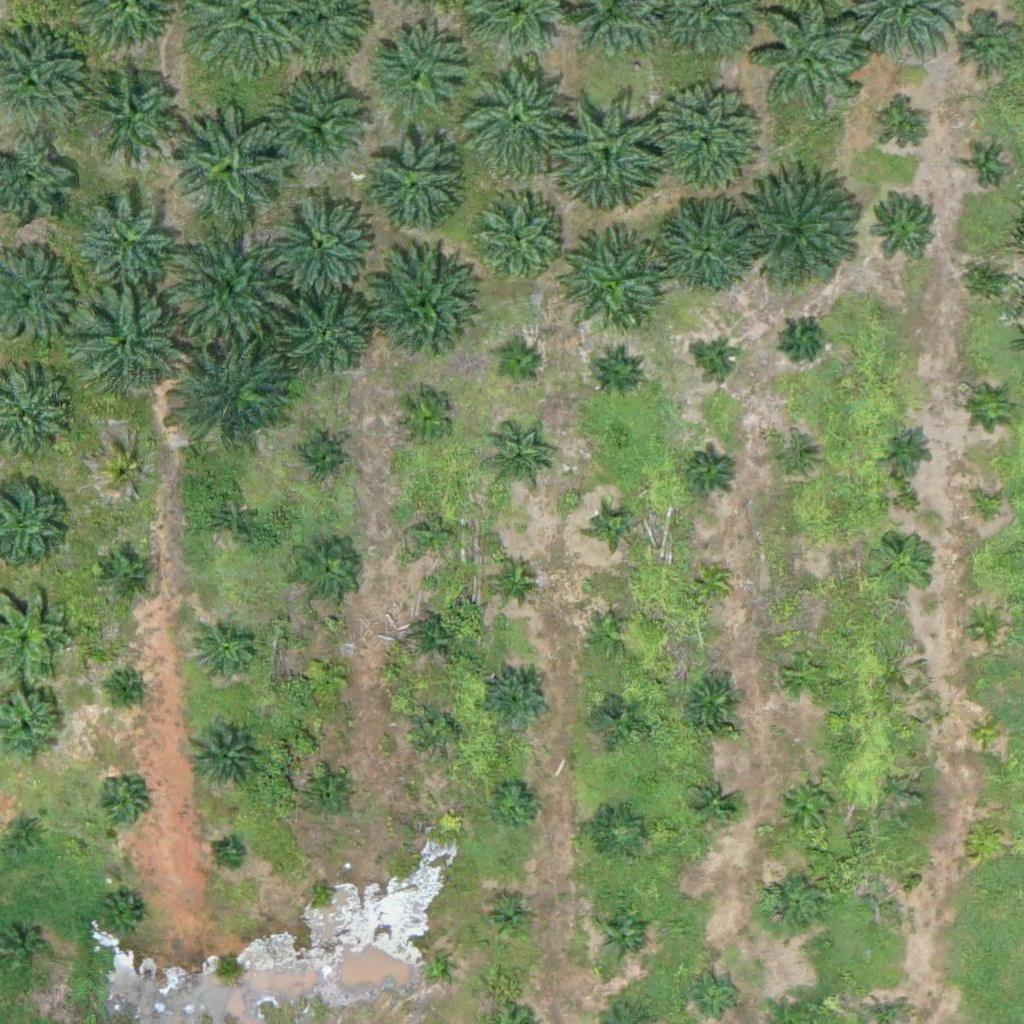Kelapa_Sawit: (547, 90, 672, 216), (455, 56, 580, 182), (165, 221, 290, 347), (173, 332, 298, 458), (743, 171, 868, 296), (364, 252, 477, 366), (644, 84, 757, 197), (73, 290, 186, 403), (265, 182, 377, 296), (175, 102, 287, 216), (553, 234, 665, 347), (654, 195, 754, 296), (468, 189, 568, 290), (369, 25, 469, 126), (77, 191, 177, 292), (361, 134, 461, 234), (274, 73, 374, 173), (83, 61, 183, 161), (283, 293, 371, 381), (187, 718, 262, 794), (867, 187, 942, 262), (485, 432, 548, 495), (391, 386, 454, 449), (758, 870, 821, 933), (487, 668, 550, 731), (954, 14, 1017, 77), (402, 503, 465, 566), (295, 541, 357, 604), (195, 620, 257, 683), (682, 672, 744, 735), (776, 773, 838, 836), (872, 533, 934, 596), (199, 490, 261, 553), (594, 807, 644, 858), (592, 689, 642, 740), (412, 611, 462, 662), (881, 104, 931, 155), (488, 554, 538, 605), (413, 705, 463, 756), (292, 432, 342, 483), (301, 651, 351, 702), (489, 778, 539, 829), (687, 778, 737, 829), (691, 968, 741, 1019), (599, 910, 649, 961), (102, 549, 152, 599), (592, 347, 642, 397), (686, 445, 736, 495), (882, 424, 932, 474), (782, 649, 832, 699), (585, 609, 635, 659), (493, 342, 543, 392), (307, 772, 357, 822), (484, 895, 534, 945), (96, 778, 146, 828), (99, 892, 149, 942), (3, 810, 53, 860), (103, 449, 153, 499), (976, 389, 1014, 427), (783, 317, 821, 355), (969, 490, 1007, 528), (967, 609, 1005, 647), (969, 716, 1007, 754), (965, 816, 1003, 854), (691, 563, 729, 601), (594, 508, 632, 546), (700, 343, 737, 381), (777, 441, 814, 479), (789, 570, 826, 608), (872, 868, 909, 906), (967, 151, 1004, 188), (971, 261, 1008, 298), (216, 841, 241, 867), (421, 952, 446, 977), (309, 879, 334, 904), (117, 677, 142, 702)
